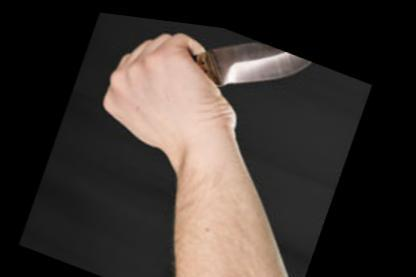knife: (101, 11, 328, 152)
